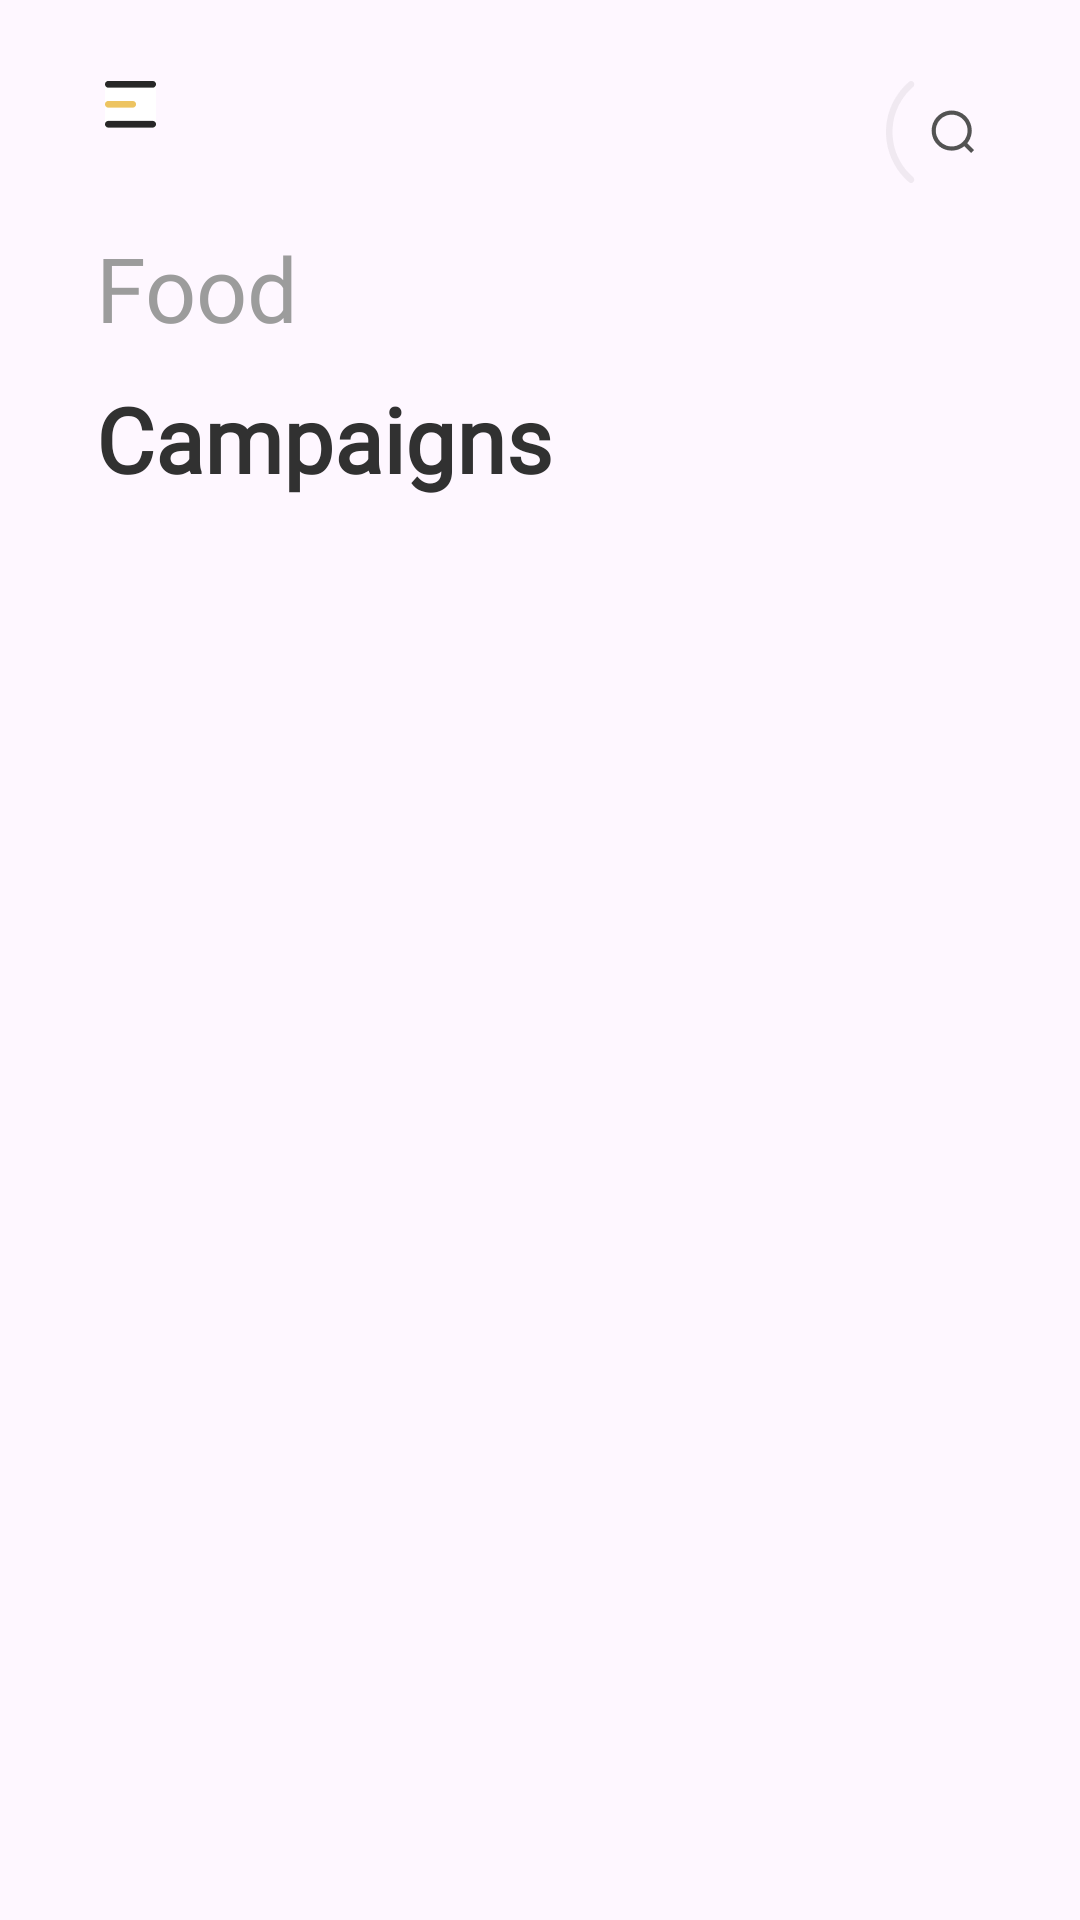

Icon click points for this 1080*1920 phone screenshot, format point (x, y):
menu: point (130, 104)
search: point (952, 131)
